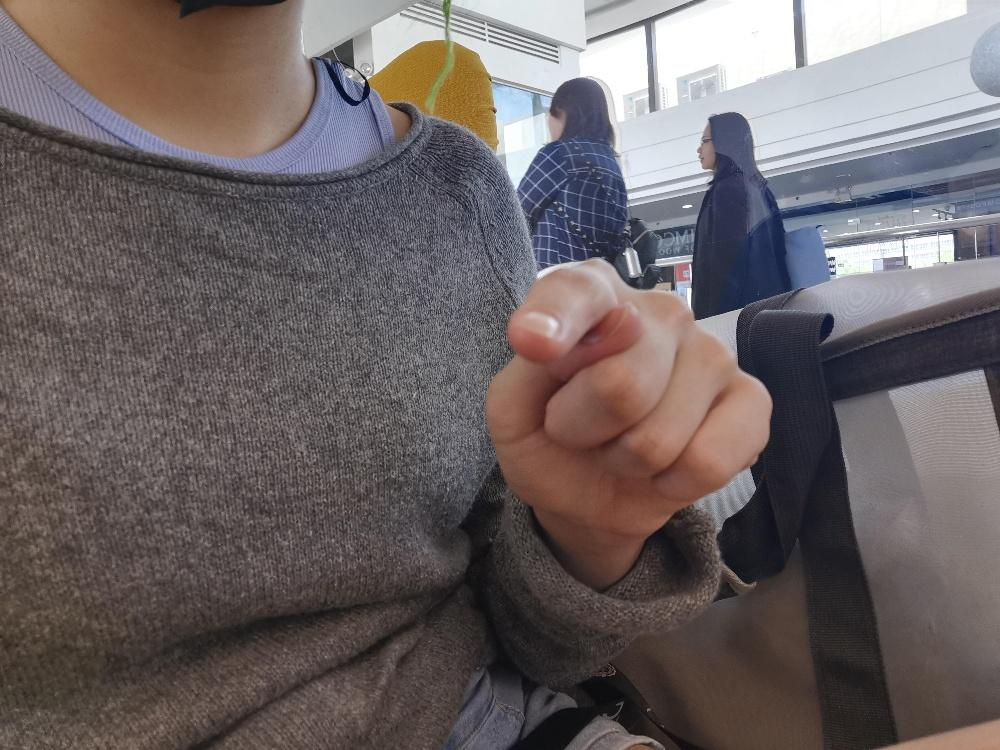z: (481, 253, 774, 538)
